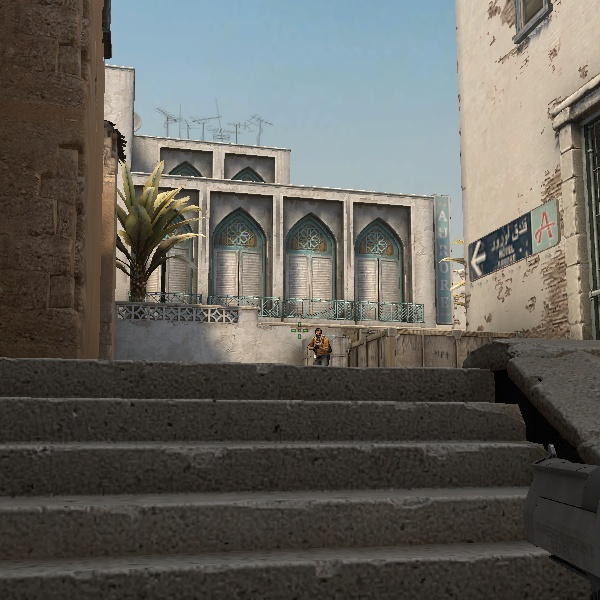t_body: (302, 326, 335, 365)
